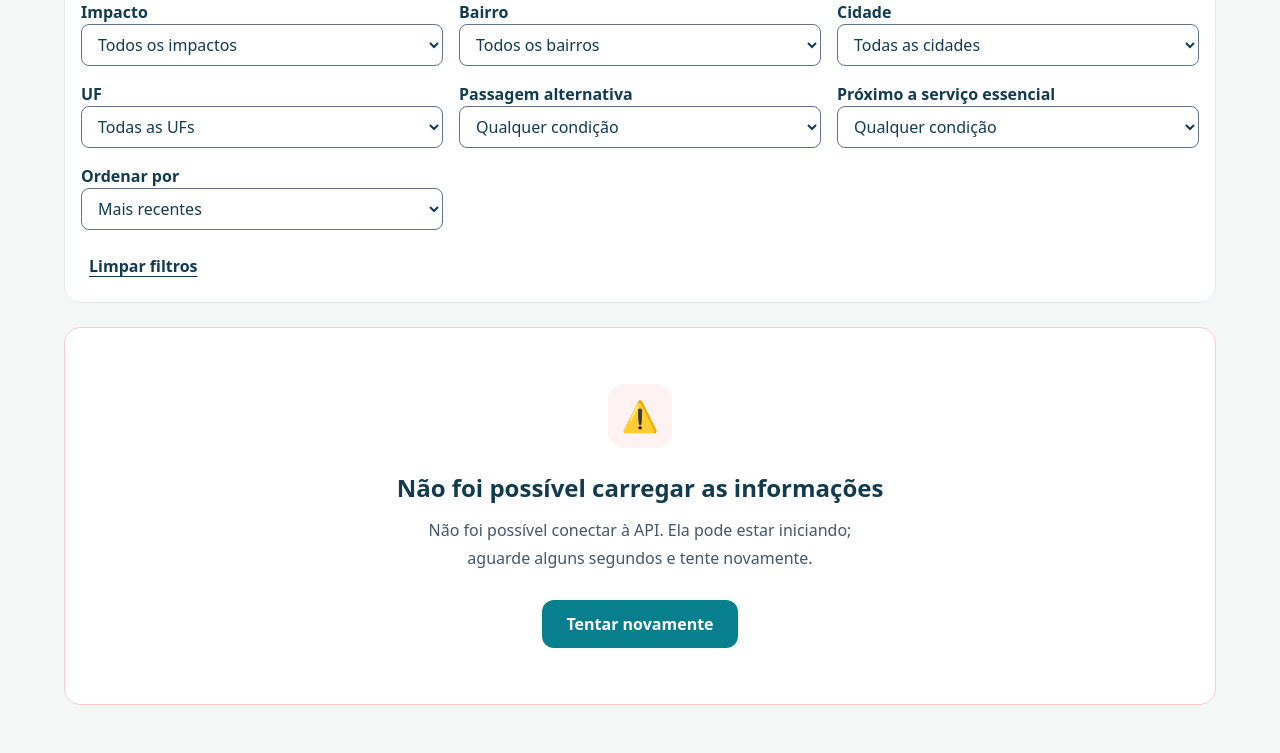
Test case: consulta de ocorrências › distingue lista vazia de falha e permite nova tentativa
(page scrolled)
Expected: the message is shown, x1=64 y1=327 x2=1216 y2=705
Expected: the text "Nenhuma ocorrência registrada" is not shown
Click the button "Tentar novamente" at point(640, 624), box x1=542 y1=600 x2=738 y2=648
(page scrolled)
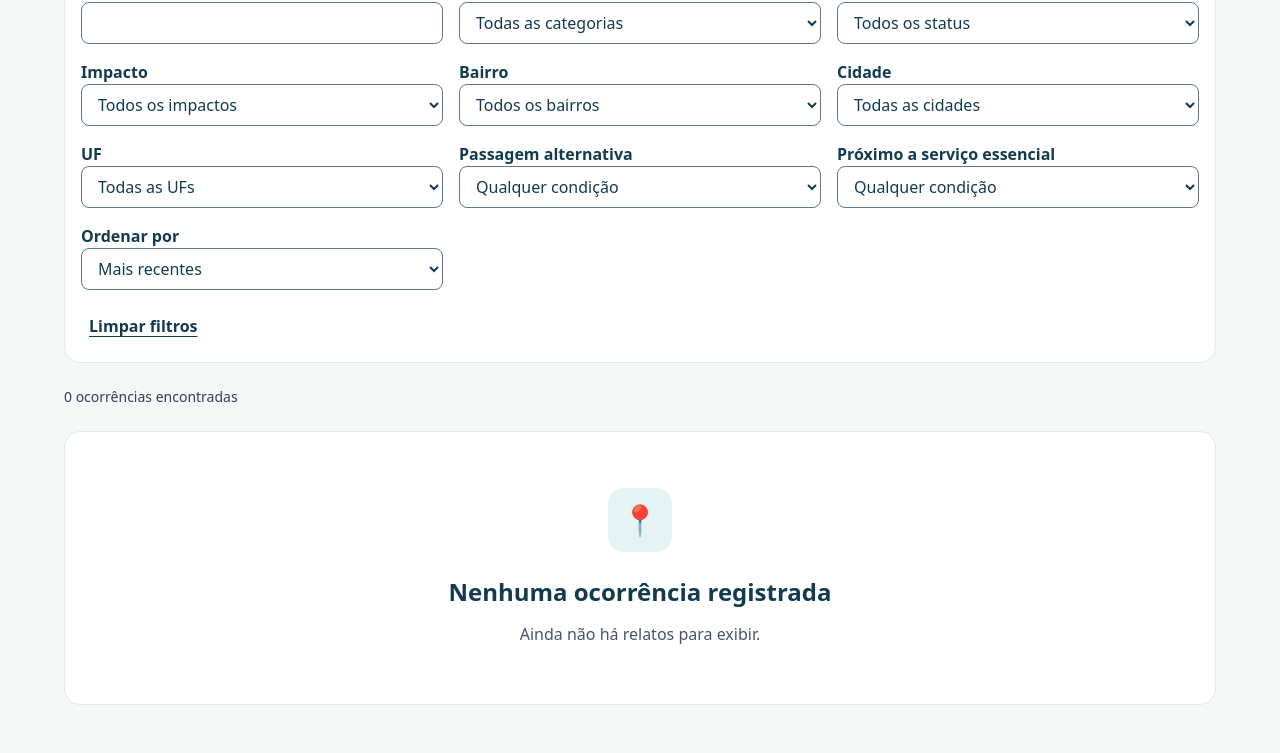
Expected: the heading "Nenhuma ocorrência registrada" is shown, x1=448 y1=576 x2=832 y2=608
